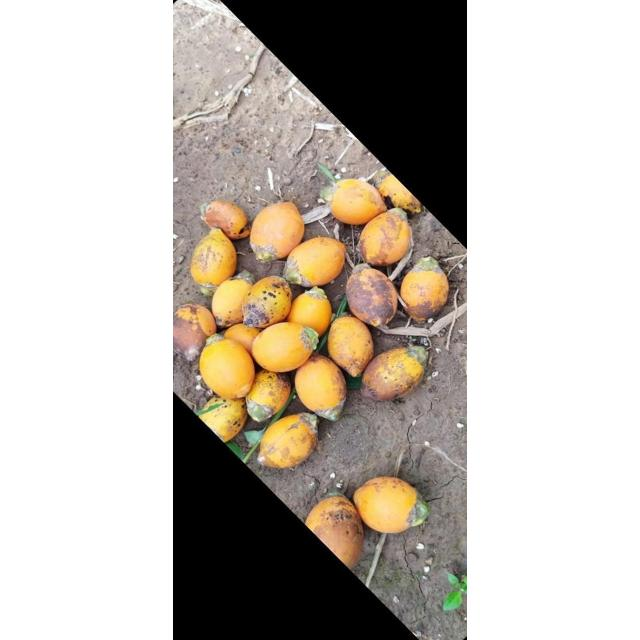good: (304, 492, 366, 570), (353, 476, 429, 534), (360, 345, 430, 401), (198, 336, 256, 398), (258, 414, 320, 470), (294, 355, 348, 419), (252, 322, 318, 373), (250, 202, 304, 262), (284, 236, 346, 288), (346, 264, 398, 326), (400, 257, 450, 321), (357, 210, 411, 268), (190, 228, 238, 288), (328, 316, 374, 376), (242, 276, 292, 328), (330, 179, 386, 225), (245, 368, 292, 422), (196, 394, 248, 442), (287, 288, 333, 340), (211, 272, 253, 328), (202, 200, 252, 240), (224, 324, 262, 356), (412, 256, 440, 270)
